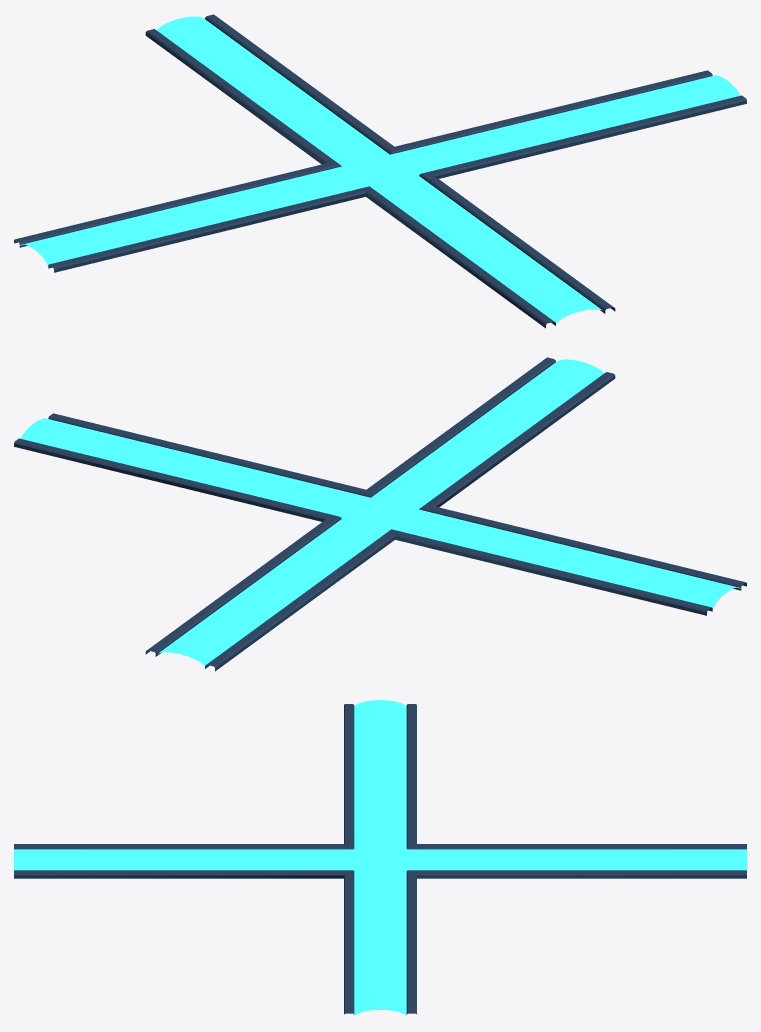
Rendered from Light_Trim_01_SquareCrossX.fbx.
3 views of the same model, one above another, from view 1: azimuth 30°, elevation 25°; view 2: azimuth 150°, elevation 25°; view 3: azimuth 270°, elevation 25° (orthographic). The views are drawn at different scales.
Parts seen in each view (by area): view 1: Light_Trim_01_SquareCrossX.001; view 2: Light_Trim_01_SquareCrossX.001; view 3: Light_Trim_01_SquareCrossX.001.
Part boxes in pixels (x1,y1,x2,y2): Light_Trim_01_SquareCrossX.001: (14,14,746,328); Light_Trim_01_SquareCrossX.001: (14,357,746,671); Light_Trim_01_SquareCrossX.001: (14,700,746,1015).
Bounding box in the file's own units: 1 × 0.0123 × 1.
